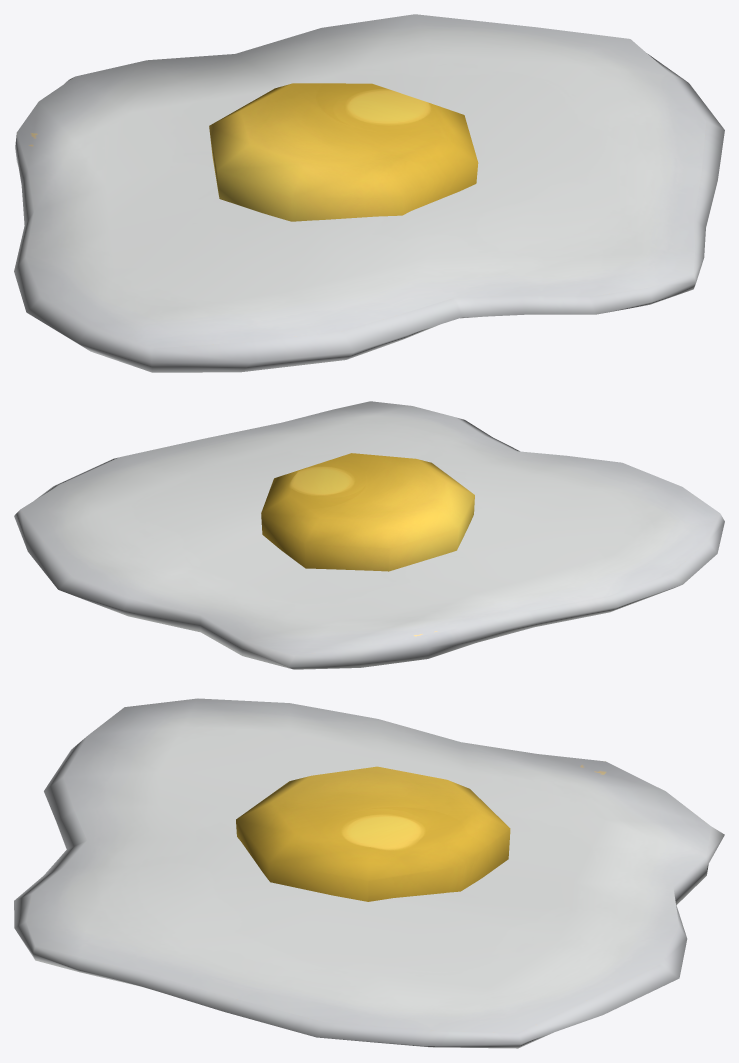
File: Egg Cracked.fbx
3 views of the same model, one above another, from view 1: azimuth 30°, elevation 25°; view 2: azimuth 150°, elevation 25°; view 3: azimuth 270°, elevation 25° (orthographic). The views are drawn at different scales.
Parts seen in each view (by area): view 1: Egg Cracked; view 2: Egg Cracked; view 3: Egg Cracked.
Part boxes in pixels (left/top/right/bottom): Egg Cracked: left=14, top=14, right=724, bottom=372; Egg Cracked: left=14, top=401, right=724, bottom=669; Egg Cracked: left=14, top=698, right=724, bottom=1048.
Bounding box in the file's own units: 133 × 14.12 × 118.
